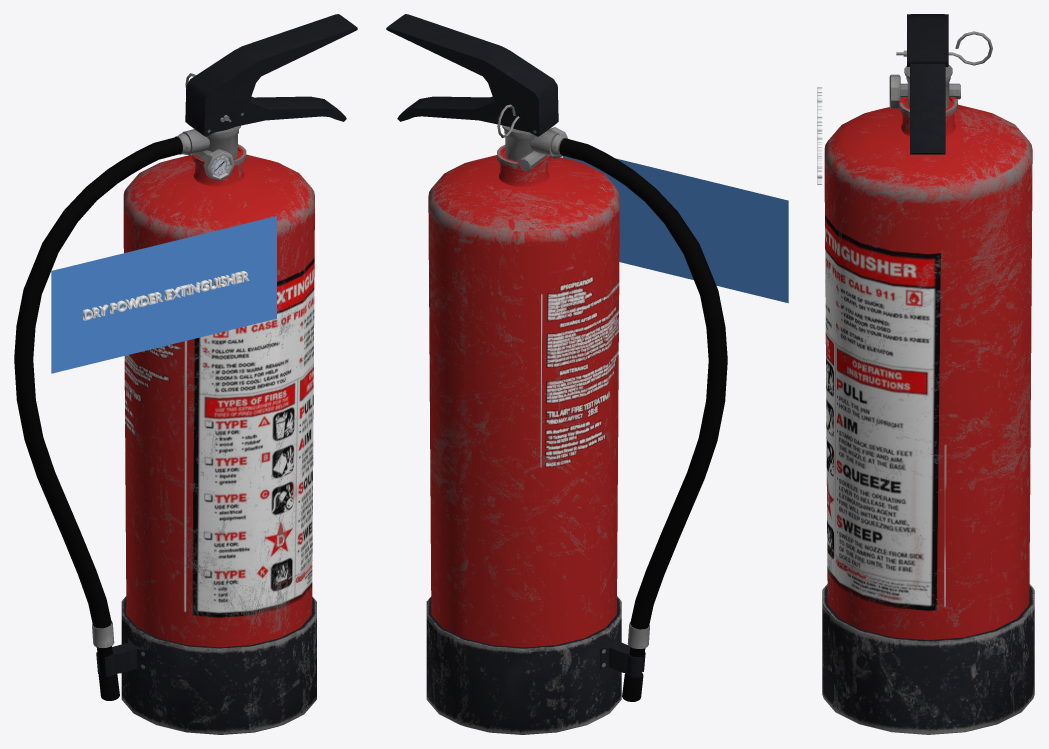
File: extinguisher-dry-powder.glb
The picture shows the model from 3 angles, left to right: view 1: azimuth 30°, elevation 25°; view 2: azimuth 150°, elevation 25°; view 3: azimuth 270°, elevation 25°; orthographic projection. The views are drawn at different scales.
Visible parts, largest first — view 1: Fire_Extinguisher, Colour_Band, Extinguisher_Name; view 2: Fire_Extinguisher, Colour_Band; view 3: Fire_Extinguisher, Extinguisher_Name.
Boxes of the visible parts, x1,y1,x2,y2 form: Fire_Extinguisher: (14,14,357,734); Colour_Band: (51,216,276,373); Extinguisher_Name: (83,271,249,320); Fire_Extinguisher: (386,14,727,734); Colour_Band: (563,156,788,303); Fire_Extinguisher: (822,14,1034,734); Extinguisher_Name: (817,87,822,184).
Bounding box in the file's own units: 0.4163 × 0.7408 × 0.2089.
Materials: 3 (1 with a texture image).
